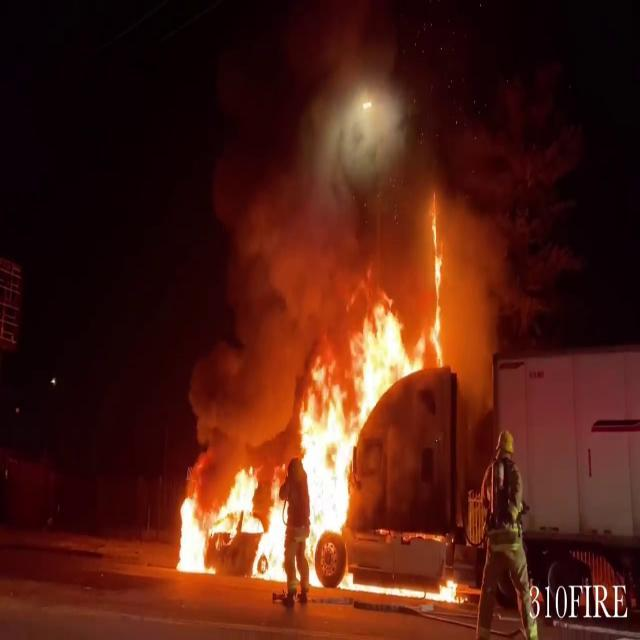Fire: (163, 262, 453, 596), (417, 193, 448, 364)
Smoke: (202, 19, 516, 374)
